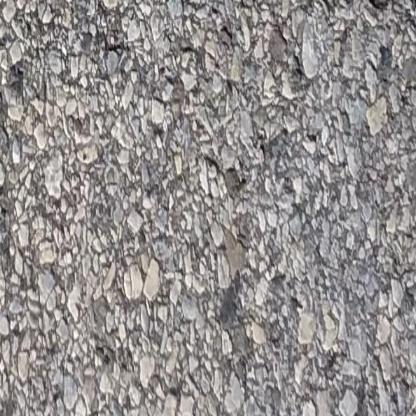Cracks: (368, 0, 416, 34)
